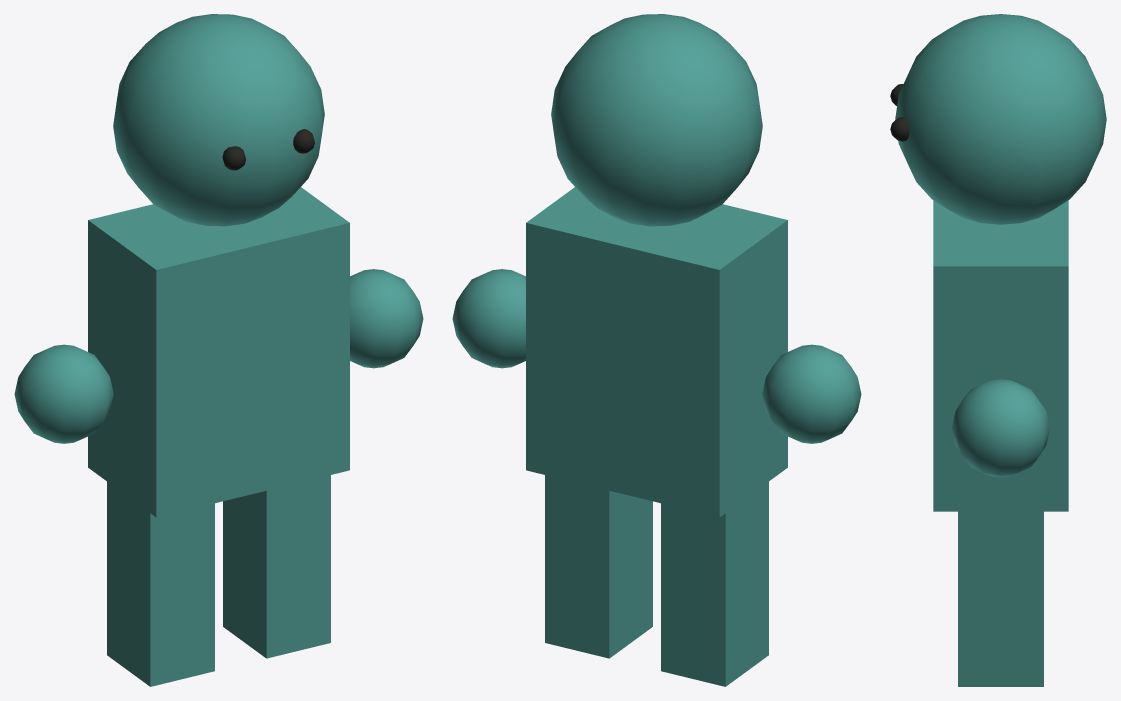
The model's file is demo-2.glb.
The picture shows the model from 3 angles, left to right: view 1: azimuth 30°, elevation 25°; view 2: azimuth 150°, elevation 25°; view 3: azimuth 270°, elevation 25°; orthographic projection.
Size of the model in its own units: 1.84 by 2.78 by 0.88.
